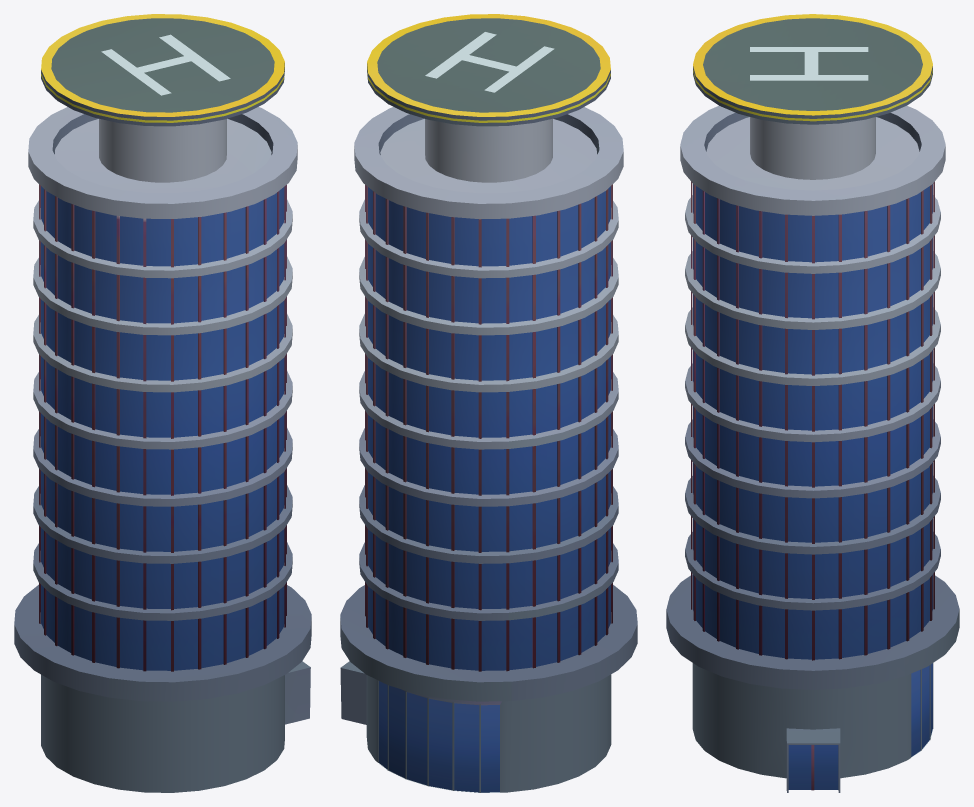
The model's file is BUD02.fbx.
3 renders of one model, left to right at view 1: azimuth 30°, elevation 25°; view 2: azimuth 150°, elevation 25°; view 3: azimuth 270°, elevation 25°, orthographic.
Parts seen in each view (by area): view 1: BUD02; view 2: BUD02; view 3: BUD02.
Boxes of the visible parts, left/top/right/bottom form: BUD02: left=14, top=14, right=311, bottom=792; BUD02: left=340, top=14, right=637, bottom=792; BUD02: left=666, top=14, right=959, bottom=792.
Bounding box in the file's own units: 2.03 × 4.98 × 1.99.
